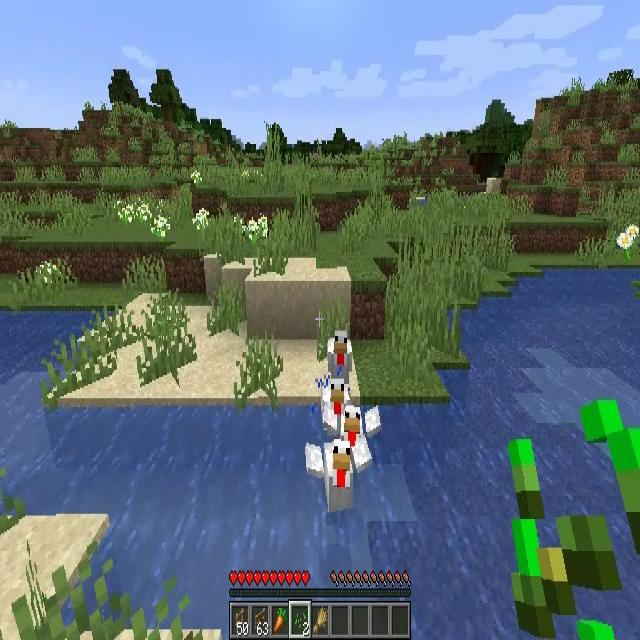duck: (306, 441, 372, 512), (321, 403, 379, 441), (328, 331, 351, 378), (319, 378, 351, 404)
flower: (616, 222, 639, 260), (151, 217, 170, 237), (193, 209, 210, 230), (120, 204, 134, 224), (137, 204, 150, 224), (257, 215, 267, 239)
